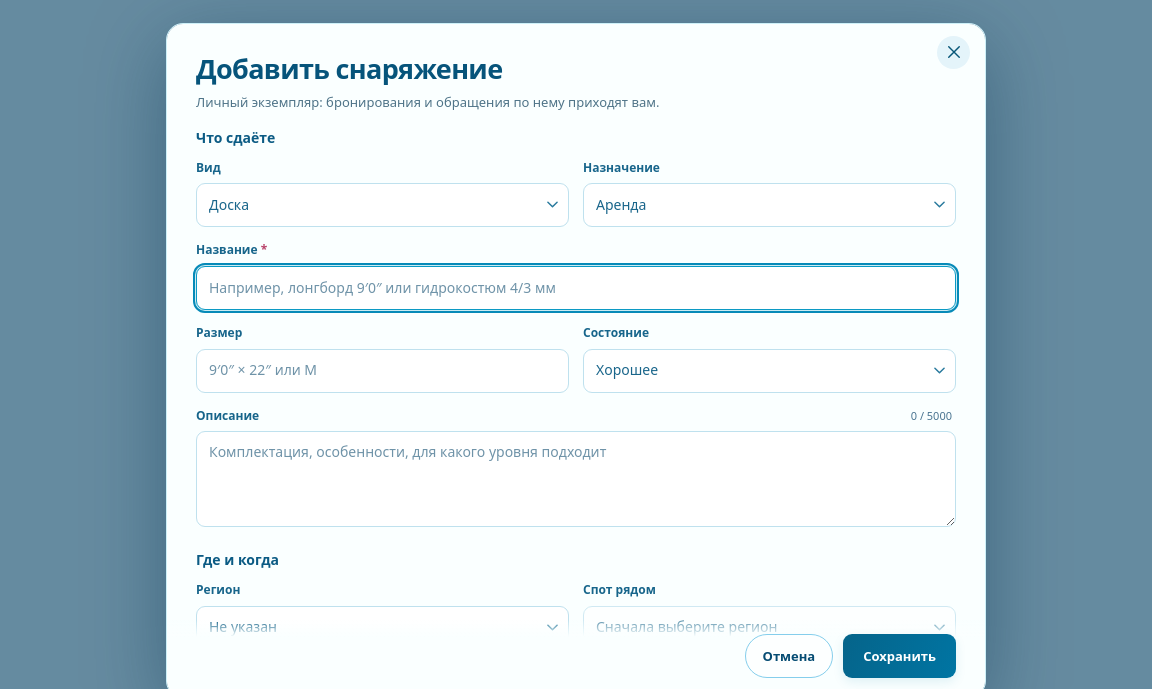
Test case: InventoryFormModal › network failure keeps the form and offers «Повторить»
Type "Доска" into the field labelled "Название *". click: (576, 288)
box: [196, 266, 956, 310]
(page scrolled)
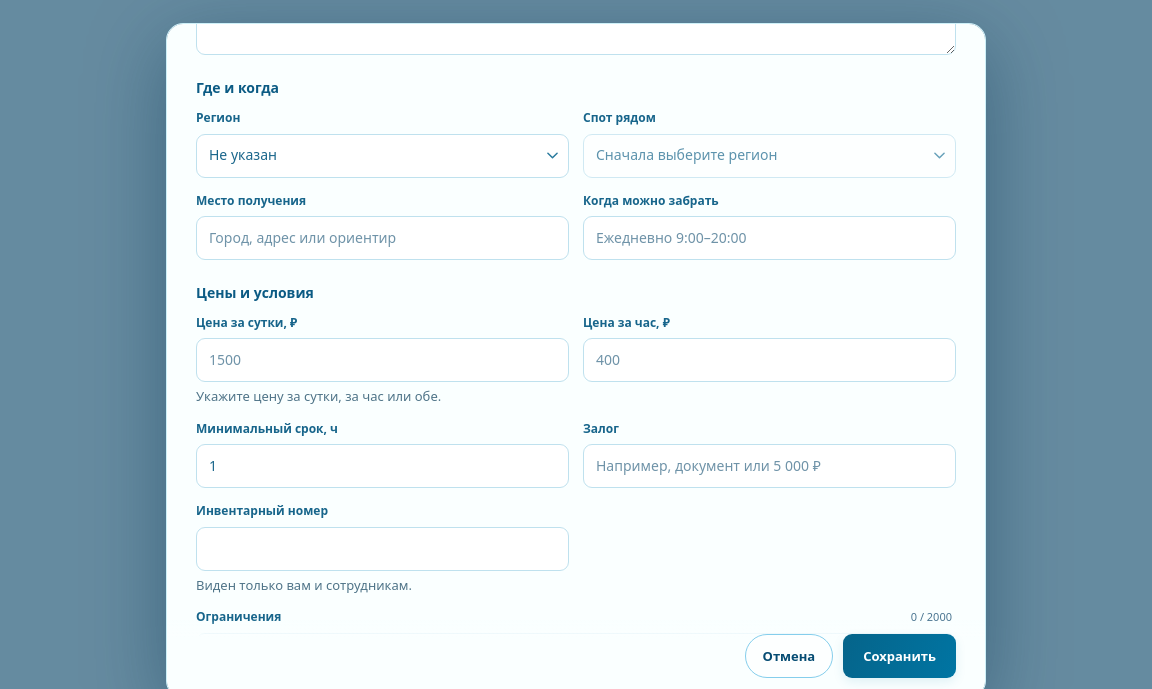
Type "1000" into the field labelled "Цена за сутки, ₽". click: (382, 360)
box: [196, 338, 569, 382]
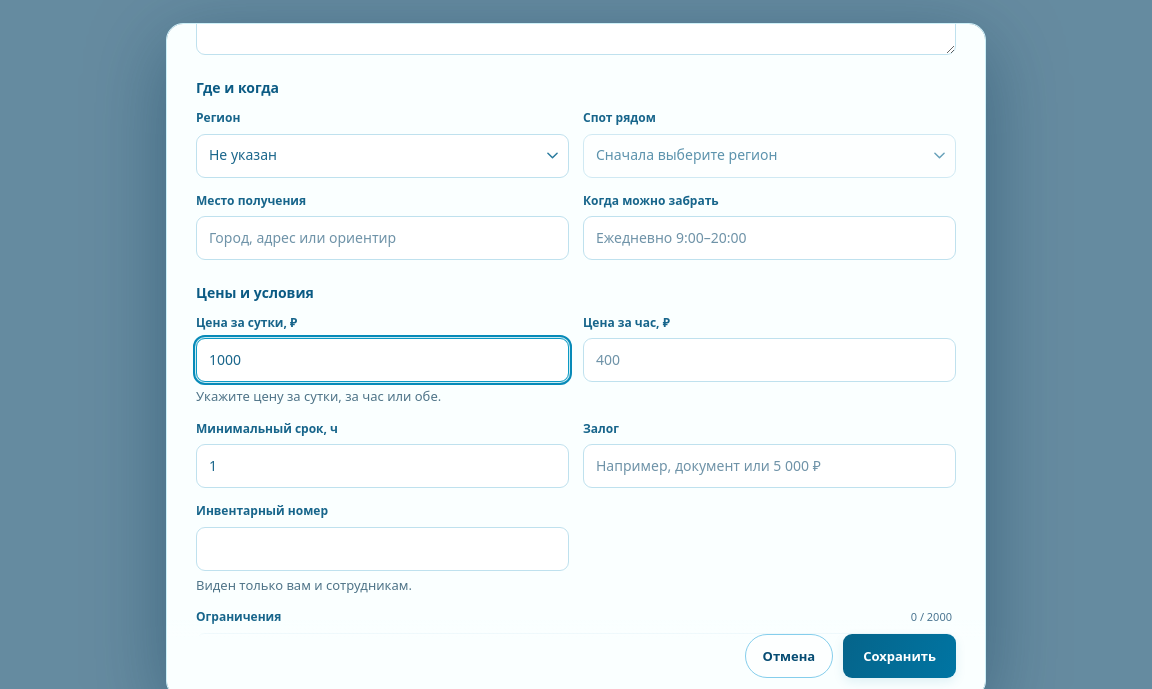
Click the button "Сохранить". click: (900, 656)
box: [843, 634, 956, 678]
(page scrolled)
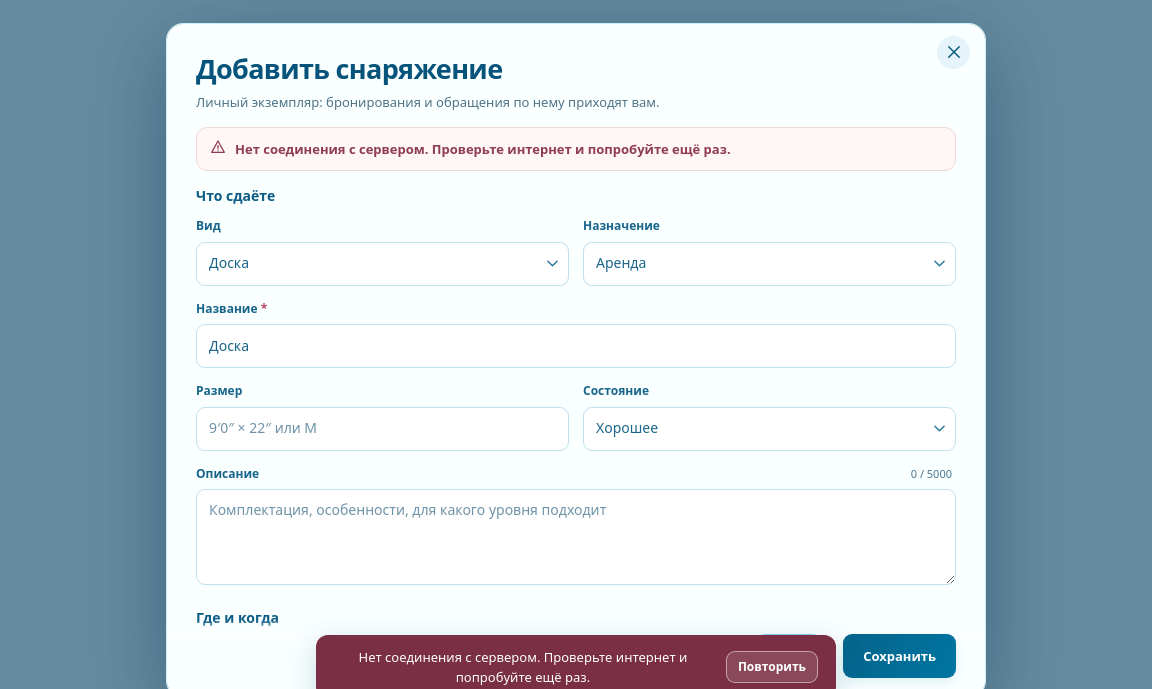
Check: the button "Повторить" is shown, box [726, 651, 818, 683]
